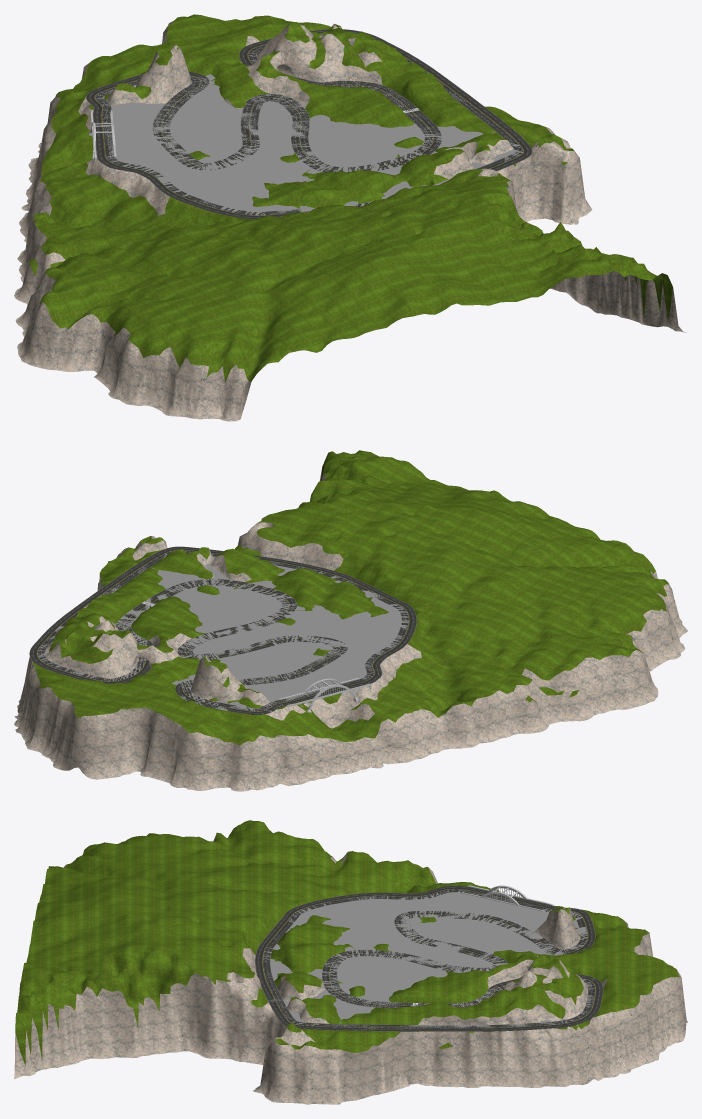
3 views of the same model, one above another, from view 1: azimuth 30°, elevation 25°; view 2: azimuth 150°, elevation 25°; view 3: azimuth 270°, elevation 25° (orthographic). The views are drawn at different scales.
Parts seen in each view (by area): view 1: grass, cliffs, maphelper_road-center, road; view 2: grass, cliffs, maphelper_road-center, road, bridge01, maphelper_polygon_outer; view 3: grass, cliffs, maphelper_road-center, road, bridge01, maphelper_polygon_outer.
Part boxes in pixels (box(x1,y1,x2,y2)): grass: box(28, 14, 672, 382); cliffs: box(14, 21, 686, 421); maphelper_road-center: box(95, 44, 522, 215); road: box(86, 29, 532, 219); grass: box(31, 450, 668, 745); cliffs: box(14, 467, 687, 791); maphelper_road-center: box(37, 550, 409, 711); road: box(29, 546, 416, 714); bridge01: box(279, 678, 371, 712); maphelper_polygon_outer: box(36, 558, 407, 714); grass: box(15, 820, 679, 1065); cliffs: box(14, 835, 687, 1104); maphelper_road-center: box(263, 889, 595, 1028); road: box(255, 885, 603, 1031); bridge01: box(461, 885, 553, 911); maphelper_polygon_outer: box(268, 949, 594, 1031).
Bounding box in the file's own units: 580 × 664 × 98.77.
Materials: 6 (5 with a texture image).
